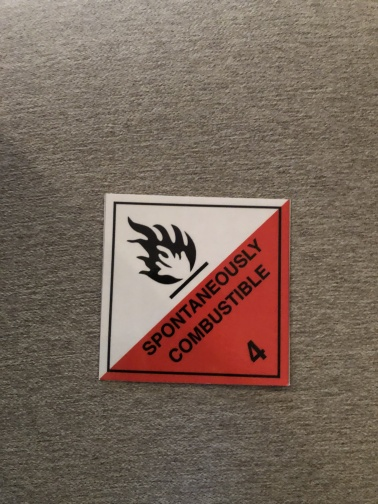SpontaneouslyCombustible: (100, 193, 291, 387)
